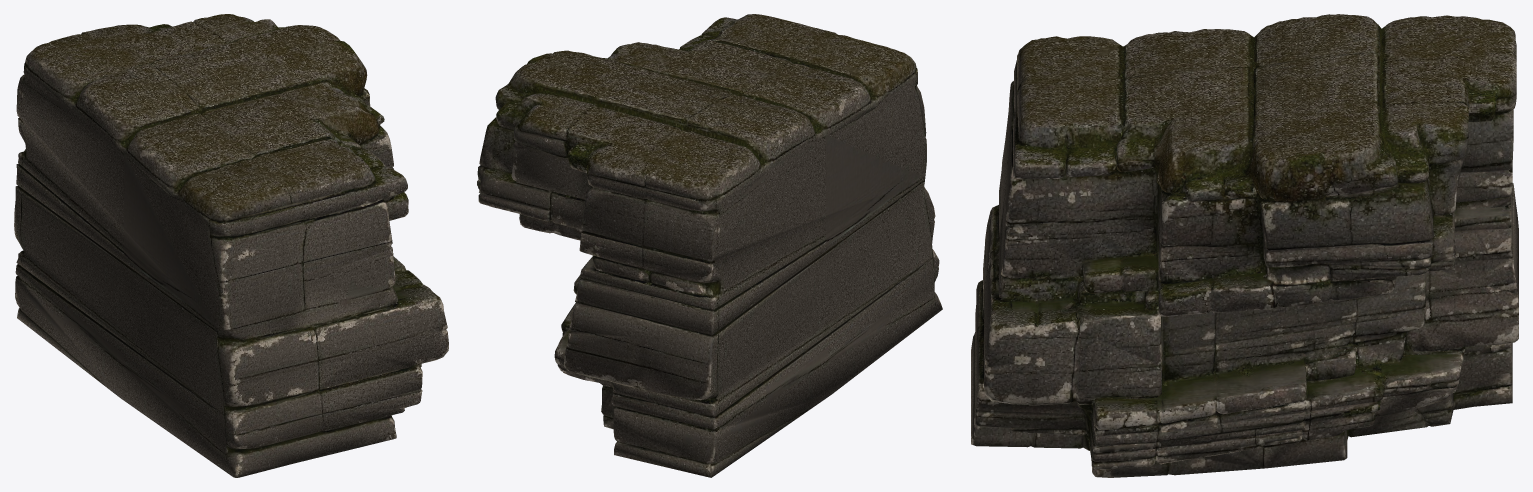
Rendered from tripo_convert_bea3318d-465d-4505-bc13-32e7decf96ff.fbx.
3 renders of one model, left to right at view 1: azimuth 30°, elevation 25°; view 2: azimuth 150°, elevation 25°; view 3: azimuth 270°, elevation 25°, orthographic. The views are drawn at different scales.
Parts seen in each view (by area): view 1: tripo_node_bea3318d; view 2: tripo_node_bea3318d; view 3: tripo_node_bea3318d.
Part boxes in pixels (x1,y1,x2,y2): tripo_node_bea3318d: (14, 14, 448, 477); tripo_node_bea3318d: (477, 14, 942, 477); tripo_node_bea3318d: (971, 14, 1518, 477).
Bounding box in the file's own units: 0.6816 × 0.6973 × 0.998.
Materials: 1 (1 with a texture image).
